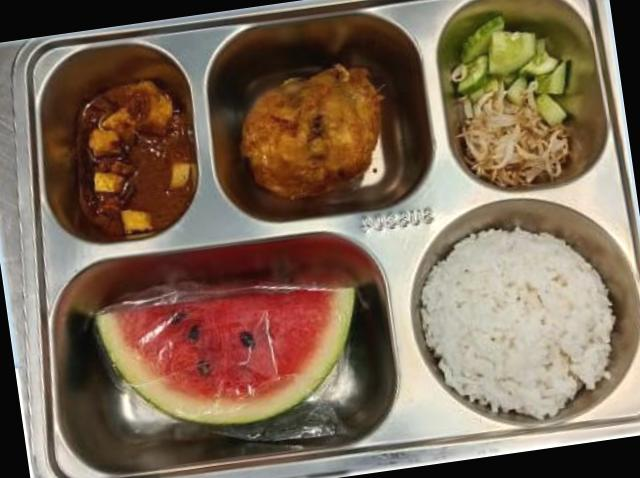ayam: (240, 65, 382, 199)
buah: (93, 285, 355, 426)
nasi: (420, 229, 613, 419)
sayur: (449, 16, 579, 188)
tahu: (74, 79, 196, 241)
